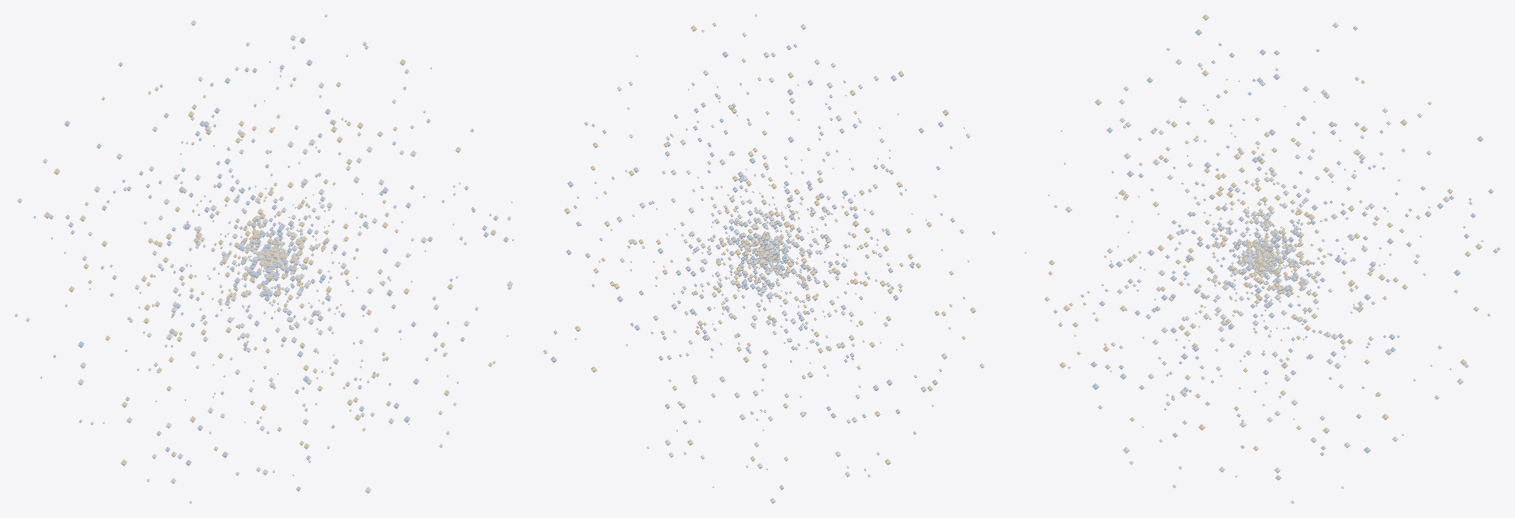
3 renders of one model, left to right at view 1: azimuth 30°, elevation 25°; view 2: azimuth 150°, elevation 25°; view 3: azimuth 270°, elevation 25°, orthographic. The views are drawn at different scales.
Bounding box in the file's own units: 4.8 × 4.91 × 4.88.
